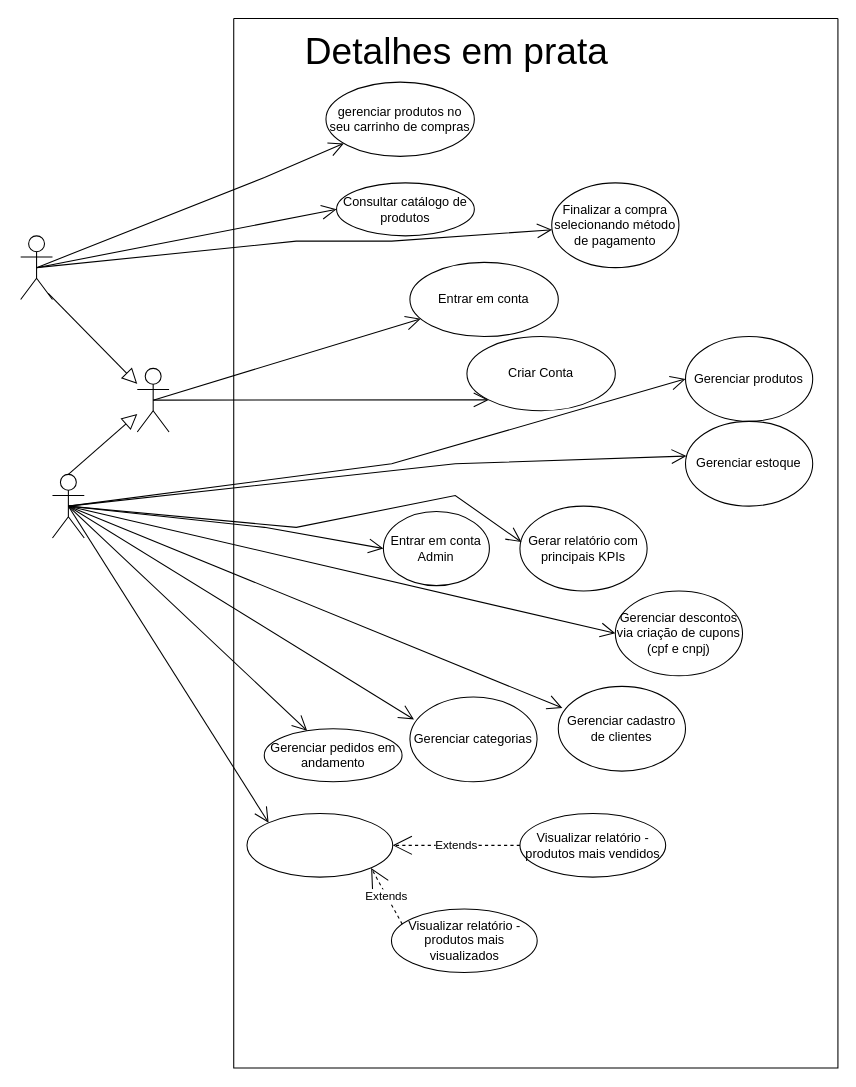
Image size: 856x1087. Some labels were removed from this diagram. Here are the shapes that lost their labels. From the top down, the centre of each, then its label:
the point at 36,267: cliente
the point at 152,399: Usuário
the point at 67,505: proprietario
the point at 319,844: Gerar relatorio
